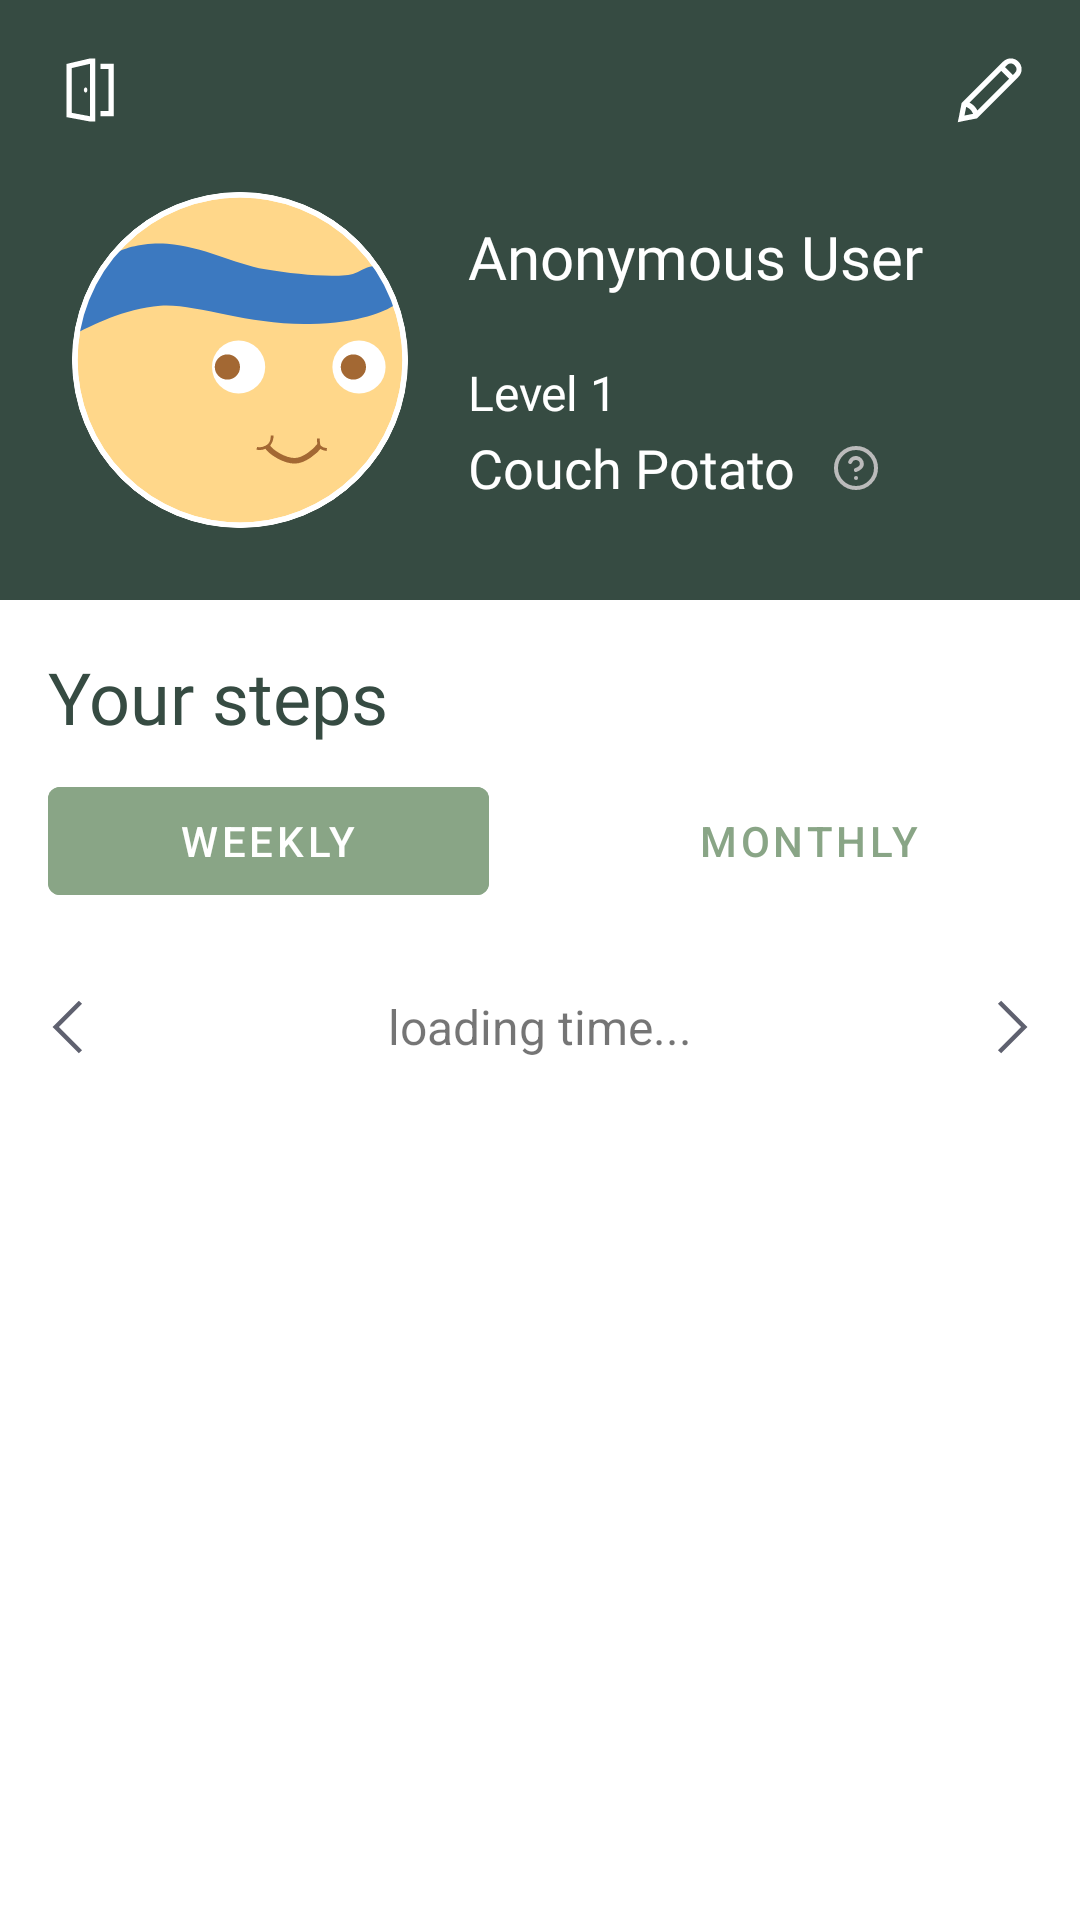

Where icons sit on this 1080 × 1920 app screen, as (left=x1, top=y1, right=x2, bottom=y2):
angle left: (left=53, top=1001, right=82, bottom=1053)
angle right: (left=998, top=1001, right=1027, bottom=1053)
door open: (left=66, top=58, right=114, bottom=122)
help circle: (left=834, top=446, right=878, bottom=490)
pen: (left=958, top=58, right=1022, bottom=122)
